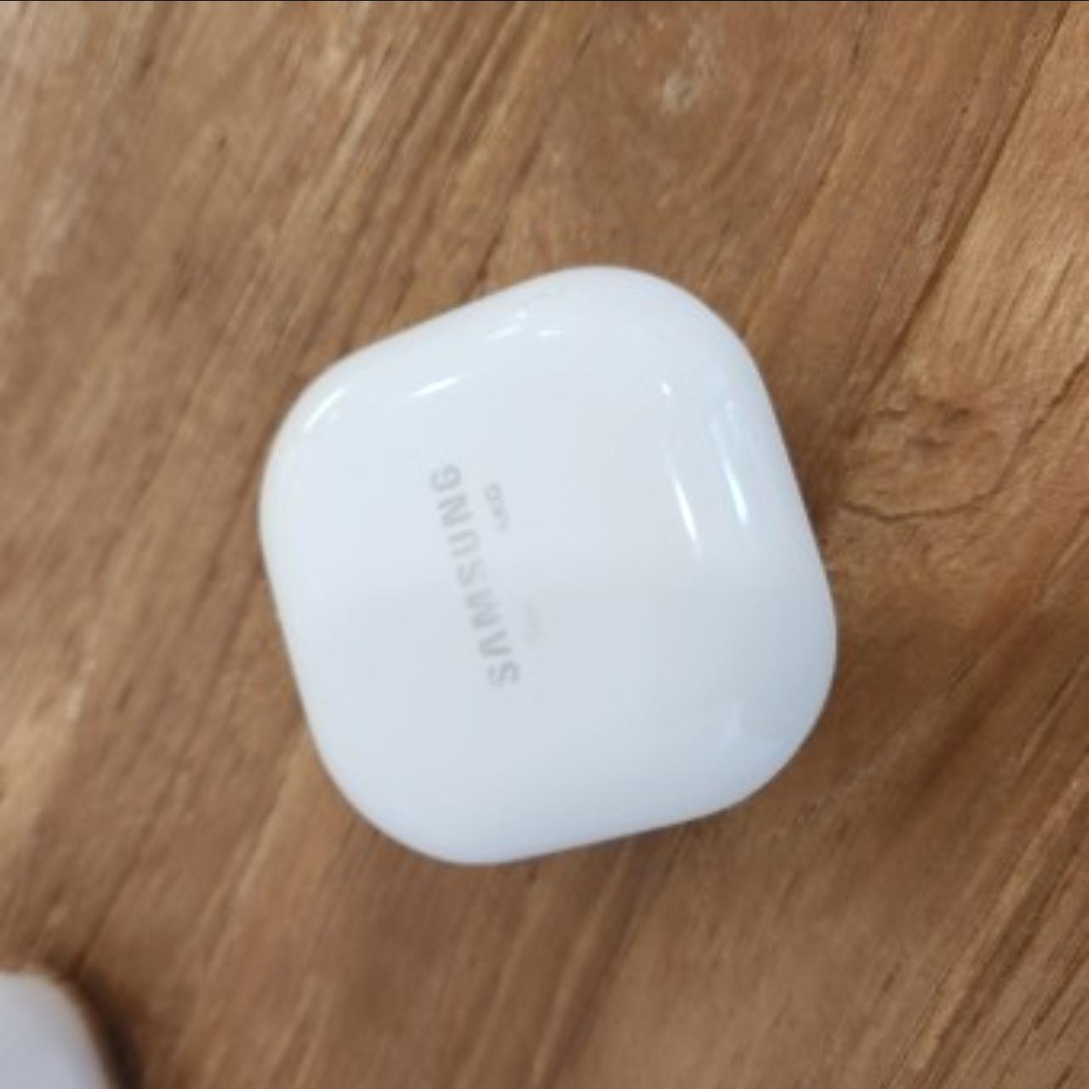Buds: (252, 260, 840, 866)
